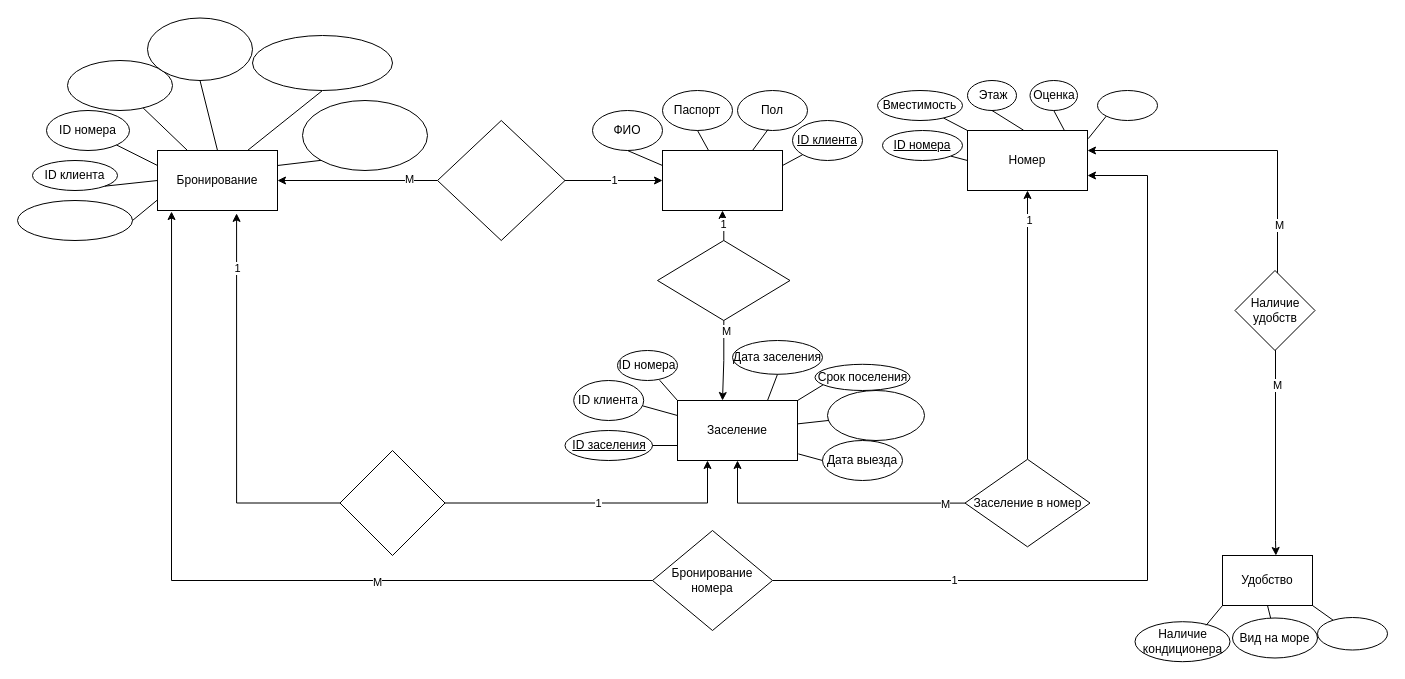
Image size: 1405x679. Some labels were removed from this diagram. Here are the shapes that lost their labels. From the top down, the box of each, then its label:
(146, 17, 252, 80): Срок бронирования (в днях)
(252, 34, 392, 90): Предварительная стоимость проживания
(66, 60, 172, 110): Дата предполагаемого заселения
(1096, 90, 1158, 120): Цена за ночь
(302, 100, 428, 170): Статус бронирования
(436, 120, 565, 240): Оформление клиентом бронирования
(662, 150, 782, 210): Клиент
(16, 200, 132, 240): ID бронирования
(656, 240, 790, 320): Оформление клиентом заселения
(826, 390, 924, 440): Итоговая стоимость проживания
(339, 450, 445, 556): Подтверждение бронирования
(1316, 616, 1388, 650): Wi-Fi
